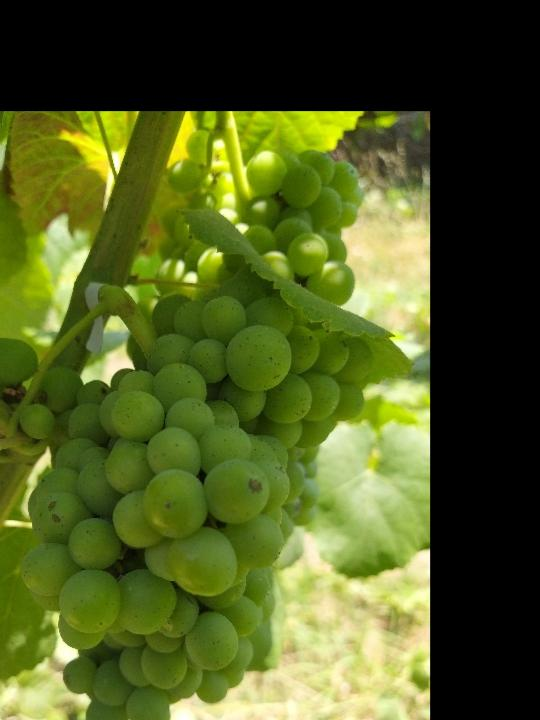grape: (0, 263, 374, 720)
